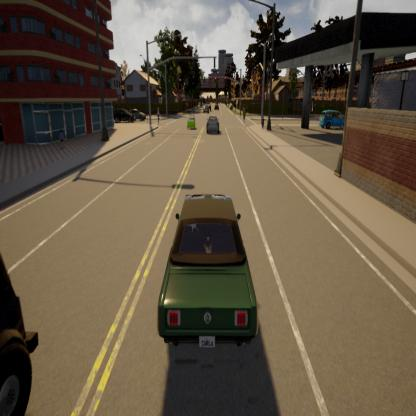Cars: (146, 170, 267, 382), (0, 215, 51, 416), (319, 102, 346, 136), (131, 102, 151, 137), (114, 102, 134, 134), (205, 112, 223, 139), (186, 106, 198, 138), (213, 94, 222, 116), (202, 94, 210, 118)
Pedestrian: (155, 102, 165, 133), (259, 108, 270, 136), (240, 102, 247, 128)
